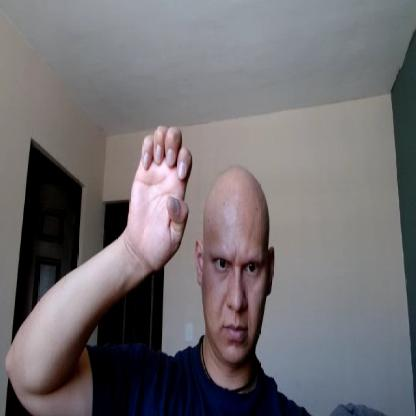E: (127, 122, 194, 276)
